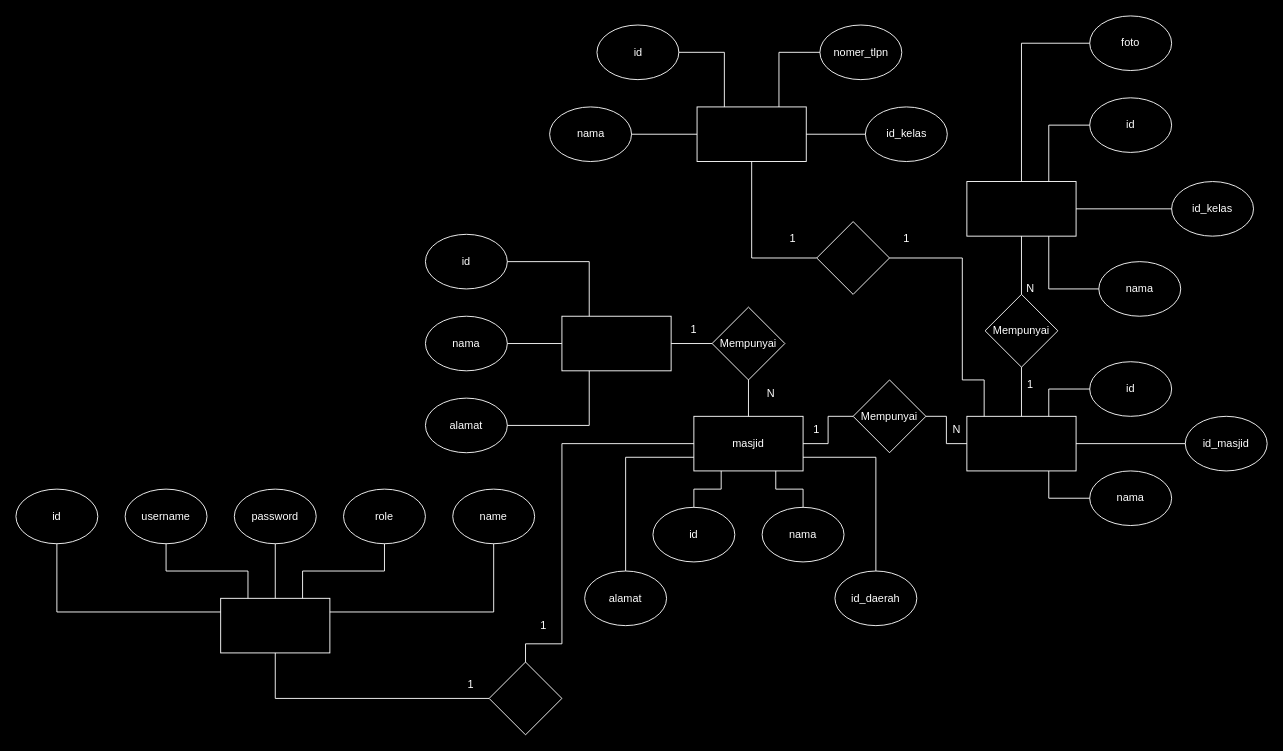
This 1283x751 diagram has some shape labels left out. The shapes that lost their labels are listed below. From the top down, each one's box as (x1, y1, x2, y2) in pixels, then its label:
(696, 106, 806, 162): pengajar
(966, 181, 1076, 236): murid
(816, 221, 890, 294): Mengajar
(561, 315, 671, 371): daerah
(966, 415, 1076, 471): kelas
(220, 597, 330, 653): user
(488, 661, 562, 735): mengelola
